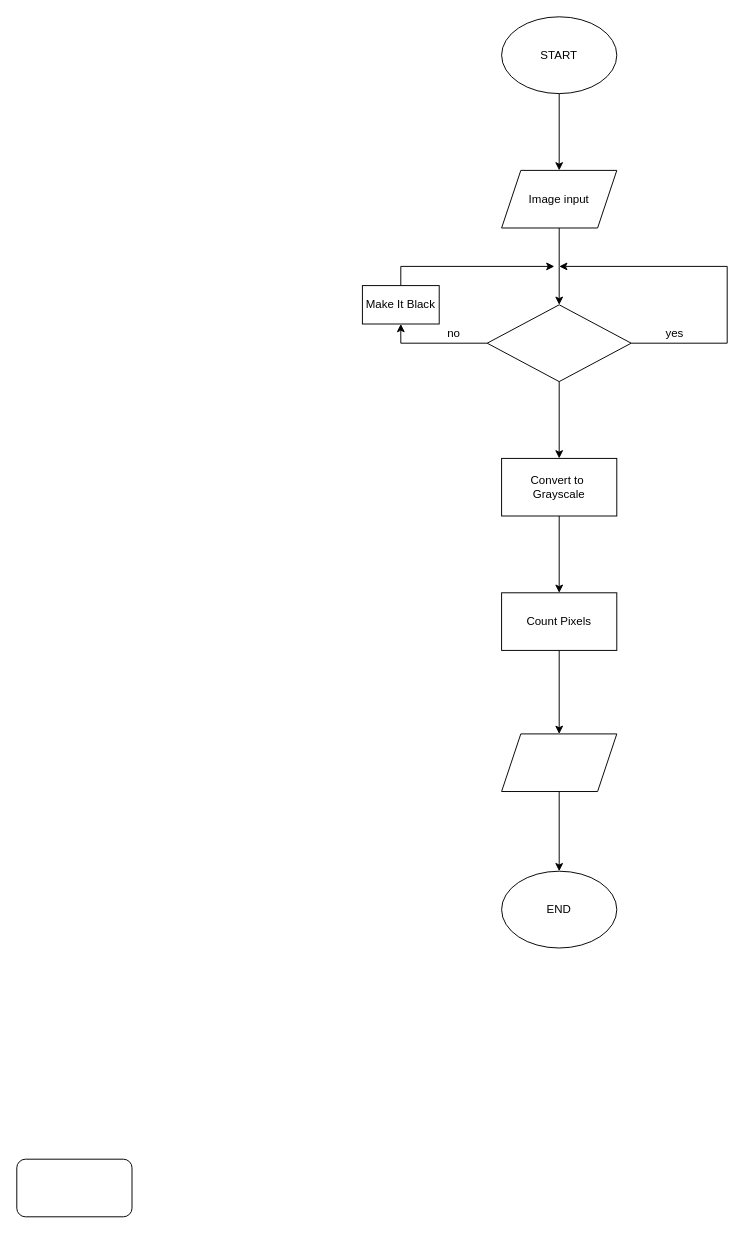
This 752x1234 diagram has some shape labels left out. The shapes that lost their labels are listed below. From the top down, each one's centre as x and y in pixels, then its label:
At point 558,343: "Is Pixel in Boundary".
At point 559,762: "Output Results".
At point 74,1187: "Image processing".
